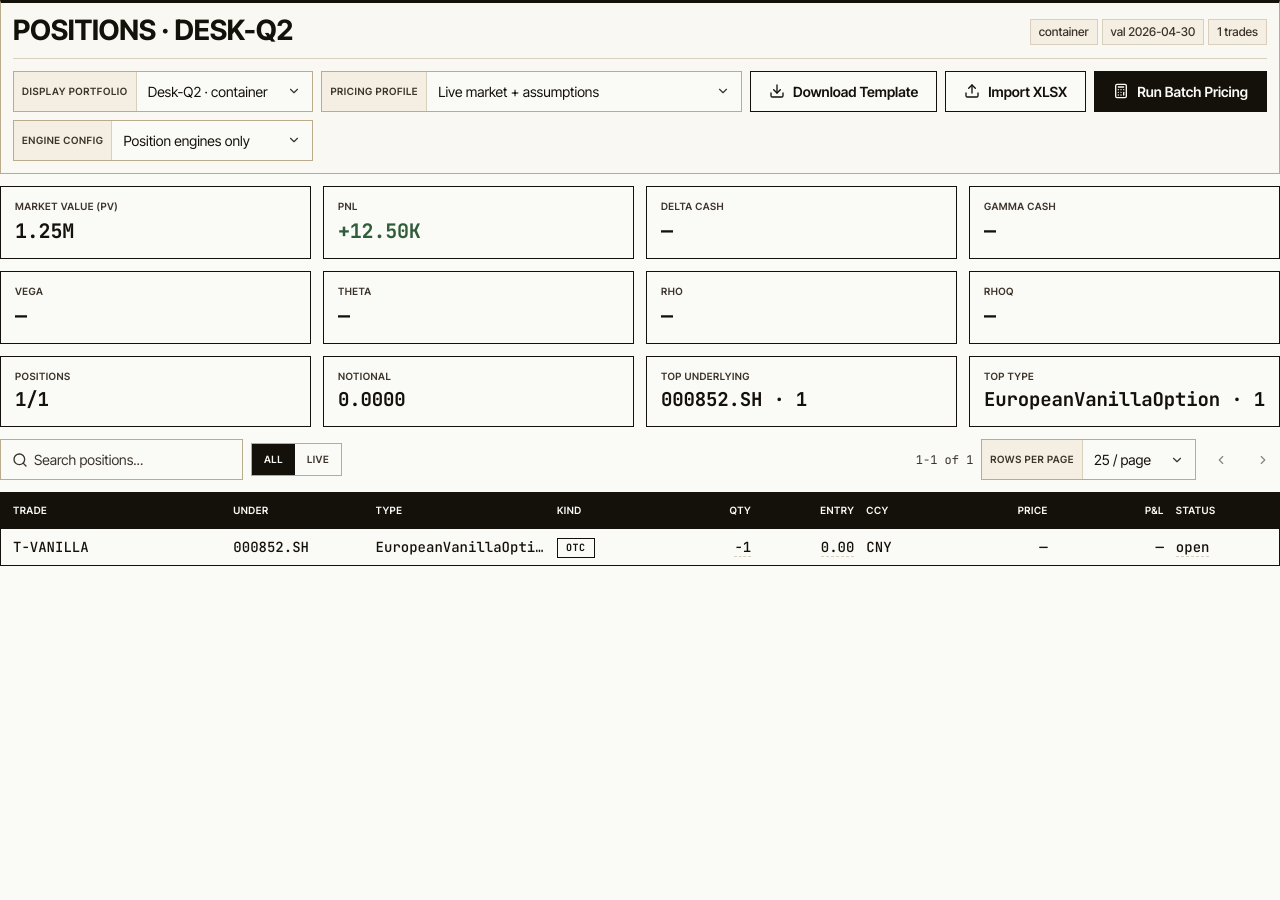
Positions › renders portfolio positions before pricing results exist and opens row detail dialog
expect the text "BlackScholesEngine" is not shown: met
Click the text "T-VANILLA".
click(51, 547)  # box [13,538,89,556]
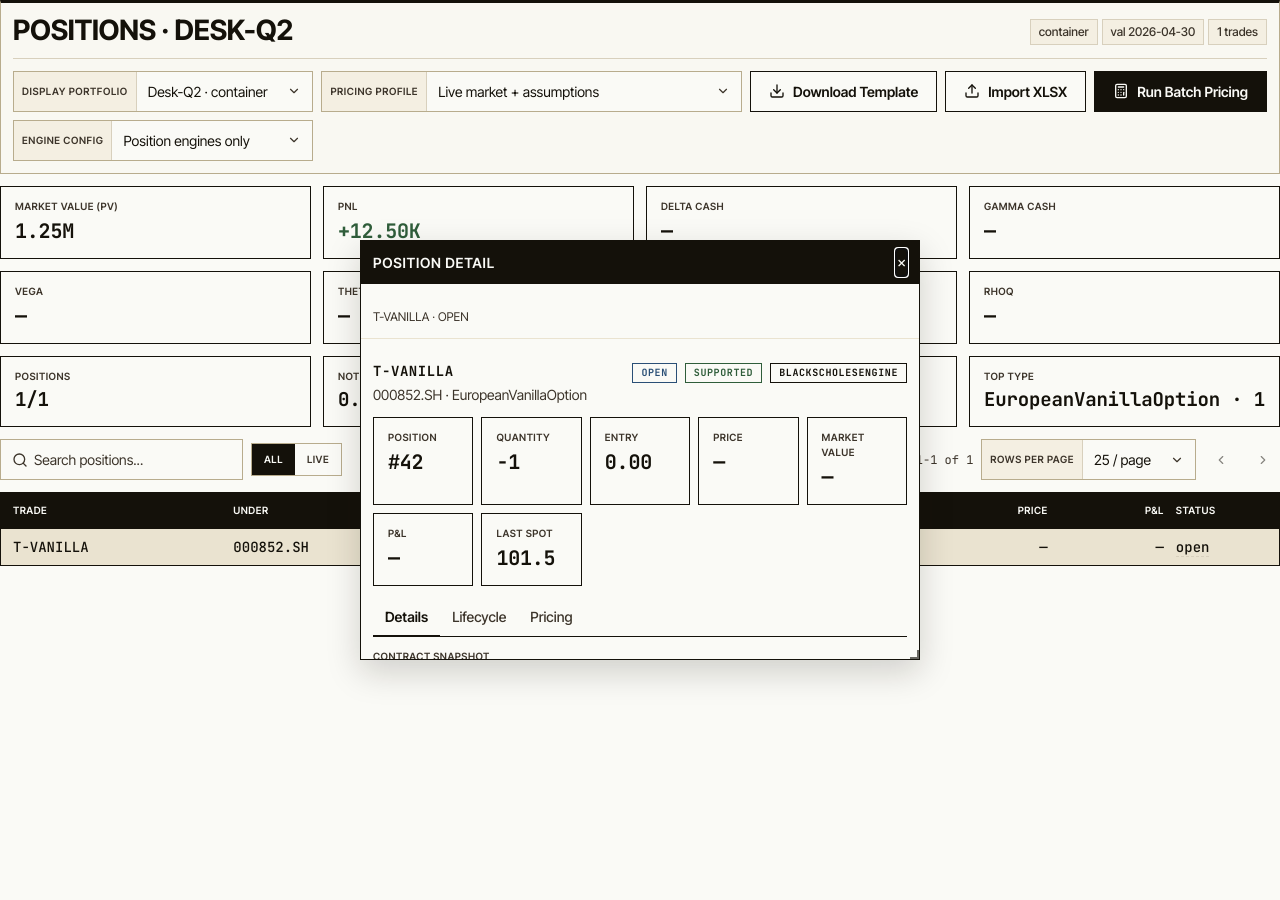
expect the dialog "Position Detail" is shown: met, box [360,240,920,660]
expect the text "BlackScholesEngine" is shown: met, box [770,363,907,383]
